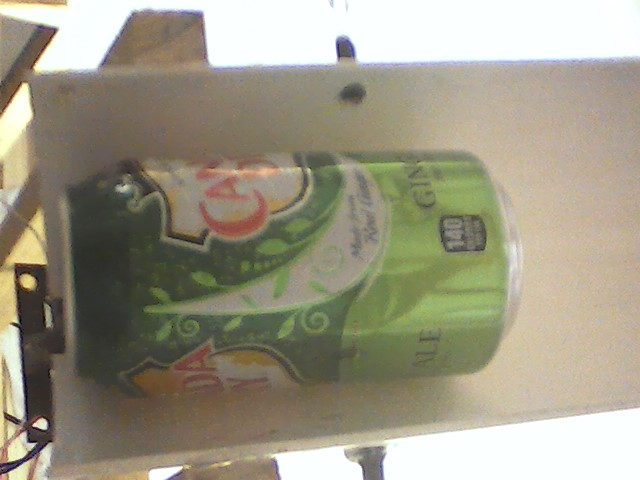lata: (54, 148, 530, 401)
